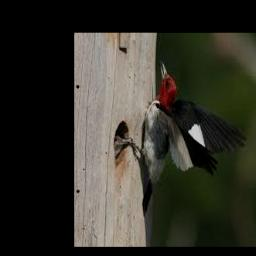Woodpecker: (115, 61, 245, 215)
